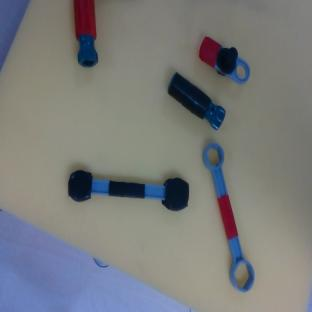part_1_good: (193, 36, 258, 87)
part_2_bad: (162, 72, 231, 131)
part_3_bad: (67, 170, 190, 212)
part_3_good: (197, 142, 258, 295)
